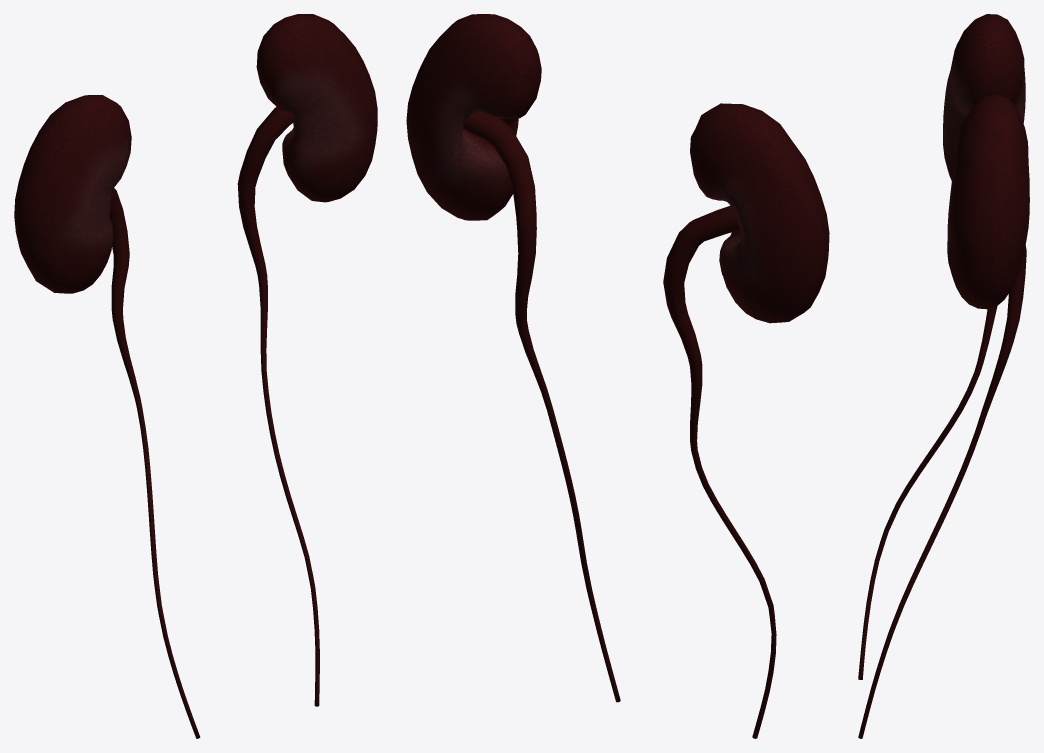
Rendered from kidneys.FBX.
3 renders of one model, left to right at view 1: azimuth 30°, elevation 25°; view 2: azimuth 150°, elevation 25°; view 3: azimuth 270°, elevation 25°, orthographic. The views are drawn at different scales.
Parts seen in each view (by area): view 1: RightKdney, LeftKidney, LeftUreter, RightUreter; view 2: RightKdney, LeftKidney, LeftUreter, RightUreter; view 3: LeftKidney, RightKdney, LeftUreter, RightUreter.
Boxes of the visible parts, box(x1,y1,x2,y2) form: RightKdney: box(14, 95, 131, 293); LeftKidney: box(256, 14, 377, 202); LeftUreter: box(237, 107, 319, 706); RightUreter: box(109, 188, 200, 738); RightKdney: box(690, 103, 829, 323); LeftKidney: box(406, 14, 541, 220); LeftUreter: box(463, 112, 620, 702); RightUreter: box(663, 205, 776, 738); LeftKidney: box(947, 94, 1029, 309); RightKdney: box(943, 14, 1025, 180); LeftUreter: box(858, 245, 1026, 738); RightUreter: box(858, 178, 1029, 679).
Size of the model in its own units: 13.89 by 23.6 by 5.52.
